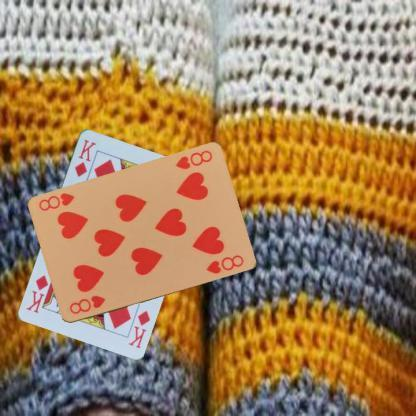8h: (172, 148, 214, 171), (66, 292, 107, 315)
Kd: (72, 136, 98, 178), (126, 308, 152, 350)
